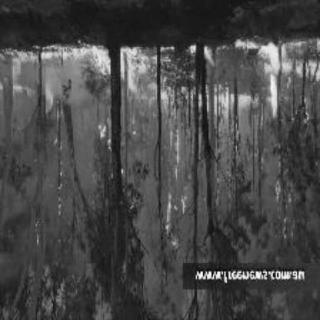Fire: (210, 40, 318, 116), (121, 45, 195, 113), (159, 118, 193, 252)
